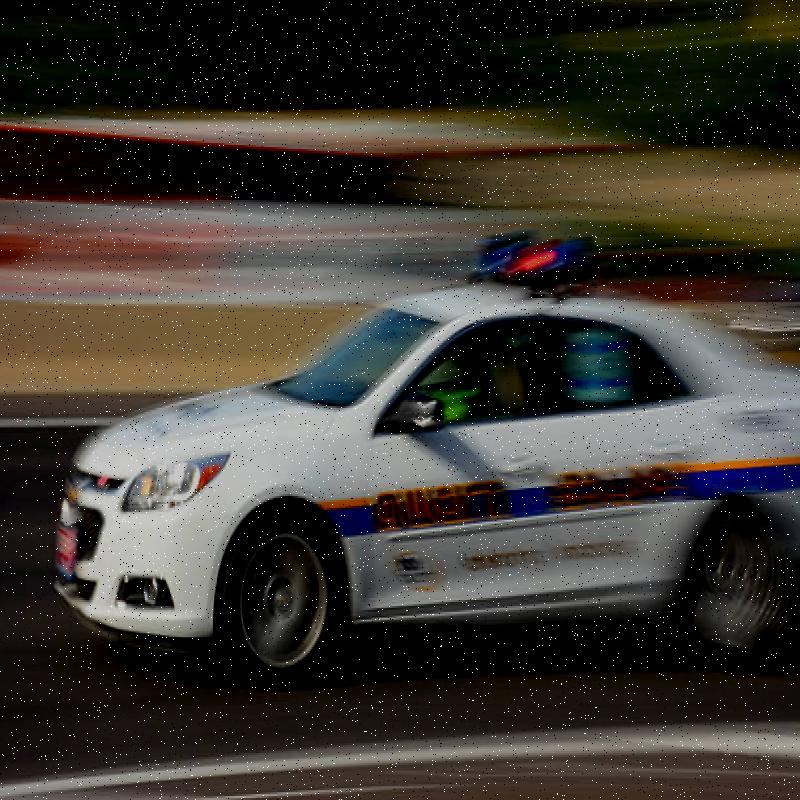AmbulanceSiren: (471, 237, 582, 296)
